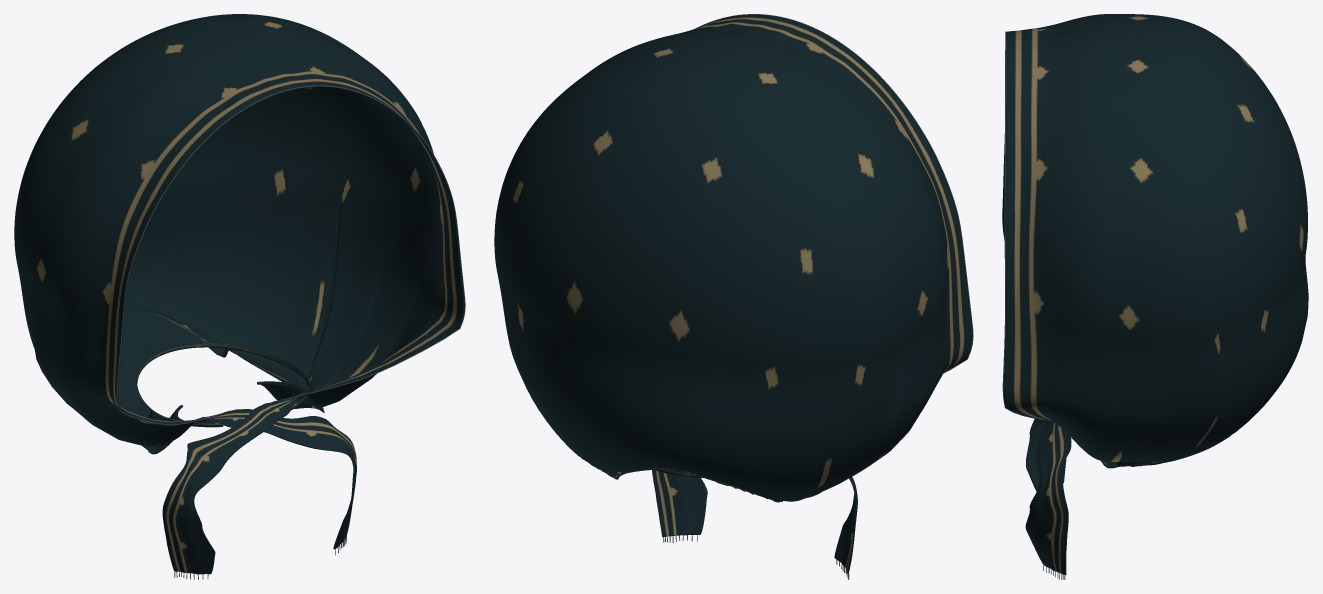
File: Feminine-ponytail-bandeau-pashmina251-headgear.glb
3 views of the same model, side by side, from view 1: azimuth 30°, elevation 25°; view 2: azimuth 150°, elevation 25°; view 3: azimuth 270°, elevation 25° (orthographic). The views are drawn at different scales.
Parts seen in each view (by area): view 1: 226 headgear / Headwear / continuous woven pashmina239, 226 headgear / Headwear / face edge239; view 2: 226 headgear / Headwear / continuous woven pashmina239, 226 headgear / Headwear / face edge239; view 3: 226 headgear / Headwear / continuous woven pashmina239, 226 headgear / Headwear / face edge239.
Boxes of the visible parts, left/top/right/bottom form: 226 headgear / Headwear / continuous woven pashmina239: left=14, top=14, right=464, bottom=574; 226 headgear / Headwear / face edge239: left=116, top=85, right=465, bottom=425; 226 headgear / Headwear / continuous woven pashmina239: left=494, top=14, right=972, bottom=573; 226 headgear / Headwear / face edge239: left=695, top=14, right=973, bottom=373; 226 headgear / Headwear / continuous woven pashmina239: left=1002, top=14, right=1308, bottom=574; 226 headgear / Headwear / face edge239: left=1002, top=31, right=1040, bottom=419.
Size of the model in its own units: 1.07 by 1.37 by 0.7569.
3 materials, 1 textured.
